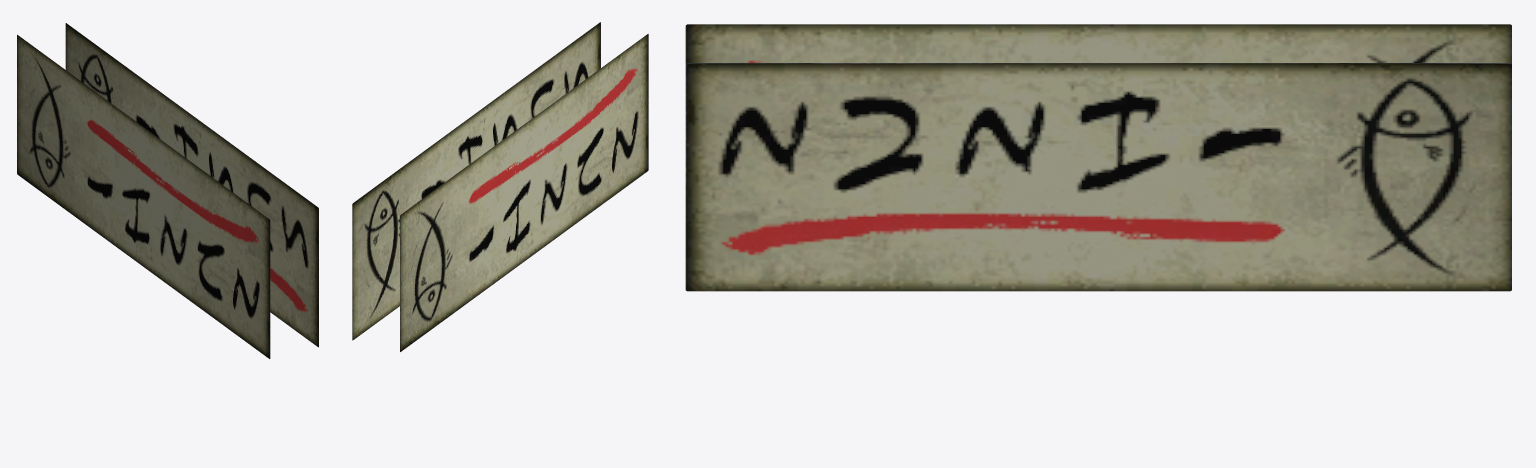
File: restaurant_sushi.fbx
The picture shows the model from 3 angles, left to right: view 1: azimuth 30°, elevation 25°; view 2: azimuth 150°, elevation 25°; view 3: azimuth 270°, elevation 25°; orthographic projection. The views are drawn at different scales.
Parts seen in each view (by area): view 1: mesh_0; view 2: mesh_0; view 3: mesh_0.
Boxes of the visible parts, x1,y1,x2,y2 form: mesh_0: [17, 23, 318, 358]; mesh_0: [352, 22, 648, 351]; mesh_0: [685, 24, 1511, 291].
Size of the model in its own units: 32.82 by 164 by 302.
Materials: 1 (1 with a texture image).
